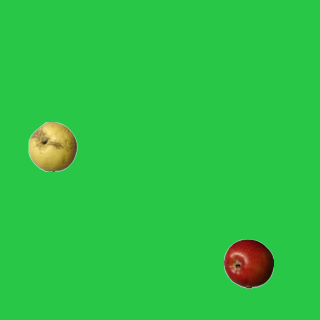Apple Braeburn: (223, 238, 273, 288)
Apple Golden 1: (27, 121, 77, 171)
